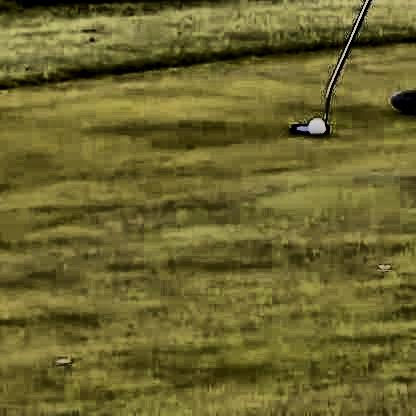golfball: (304, 116, 323, 134)
